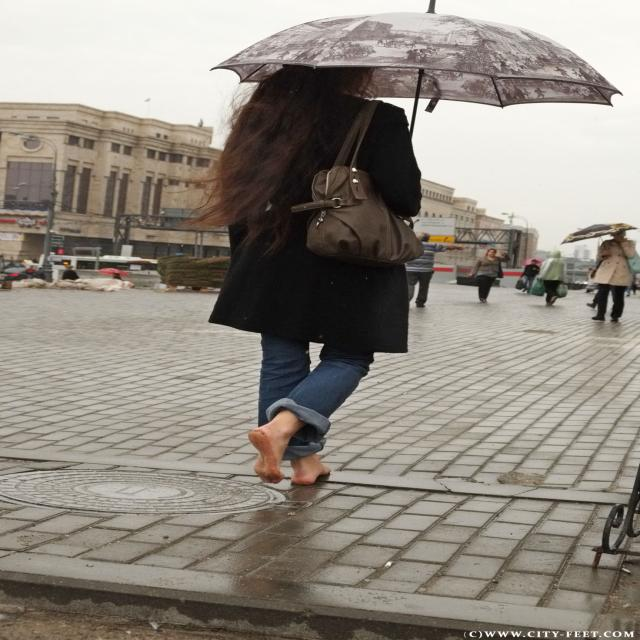Barefoots: (248, 424, 285, 484), (290, 462, 331, 484)
